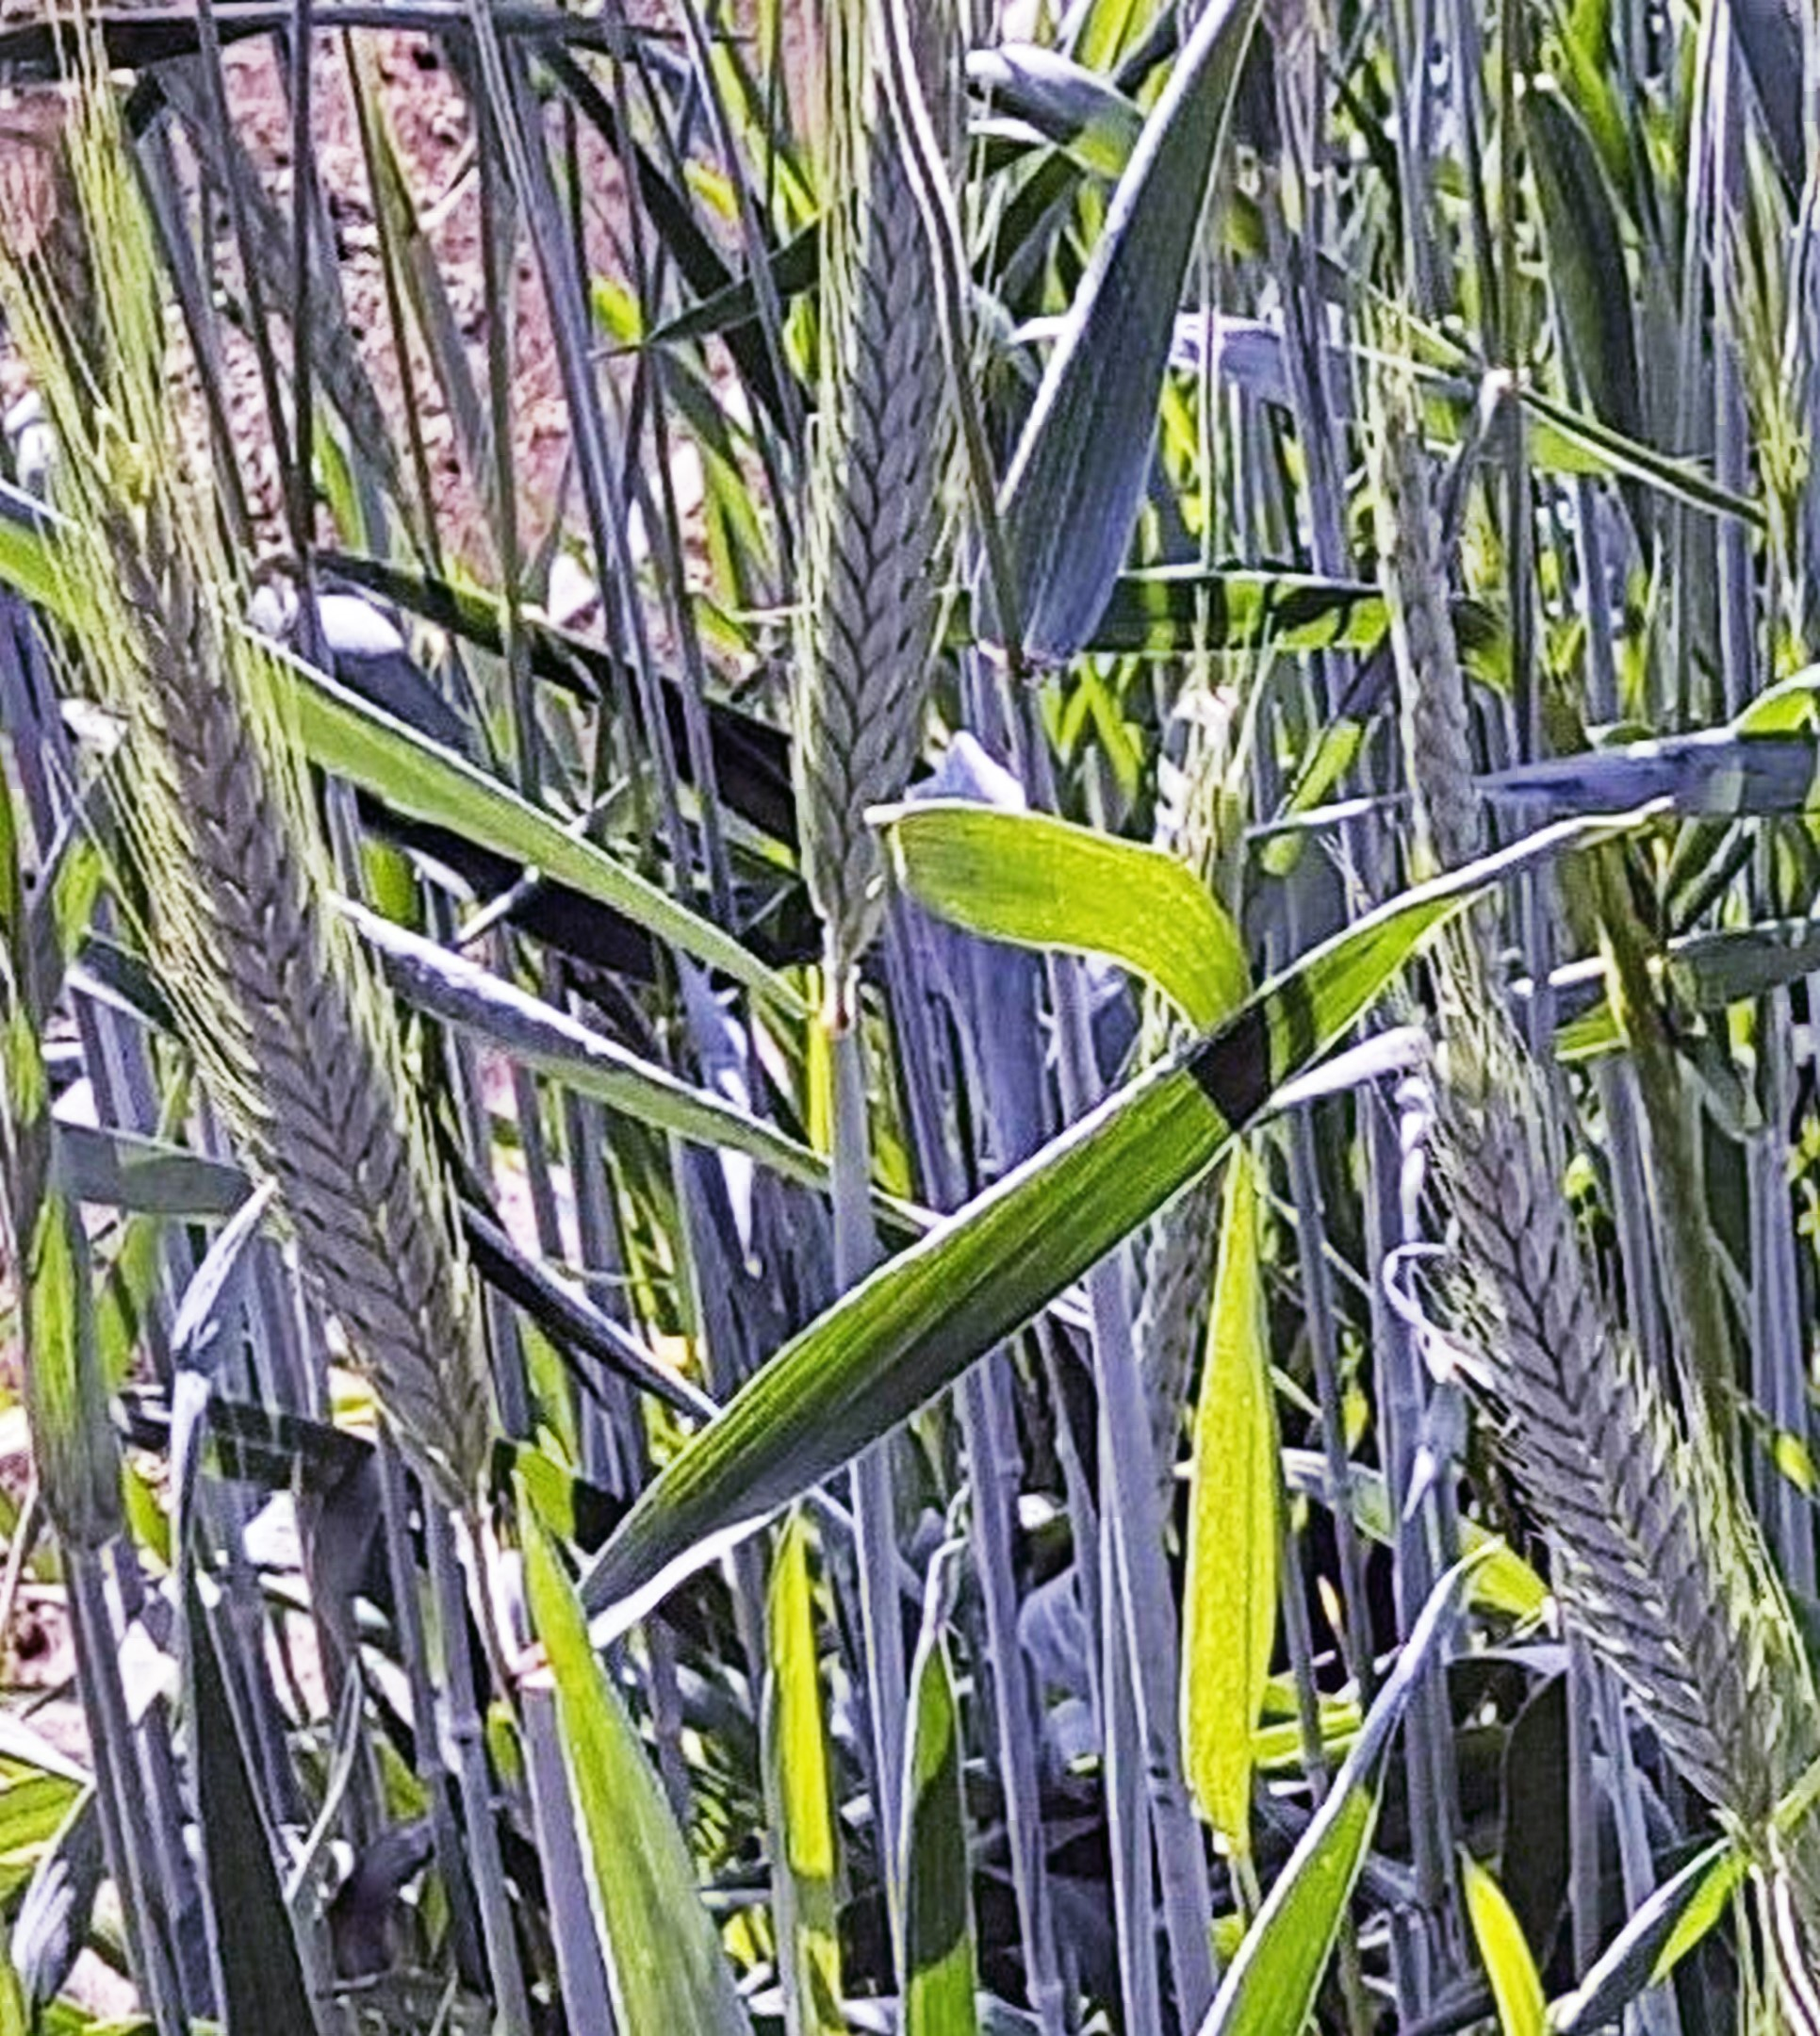Healthy Wheat: (84, 480, 513, 1491), (1432, 1075, 1806, 1815)
